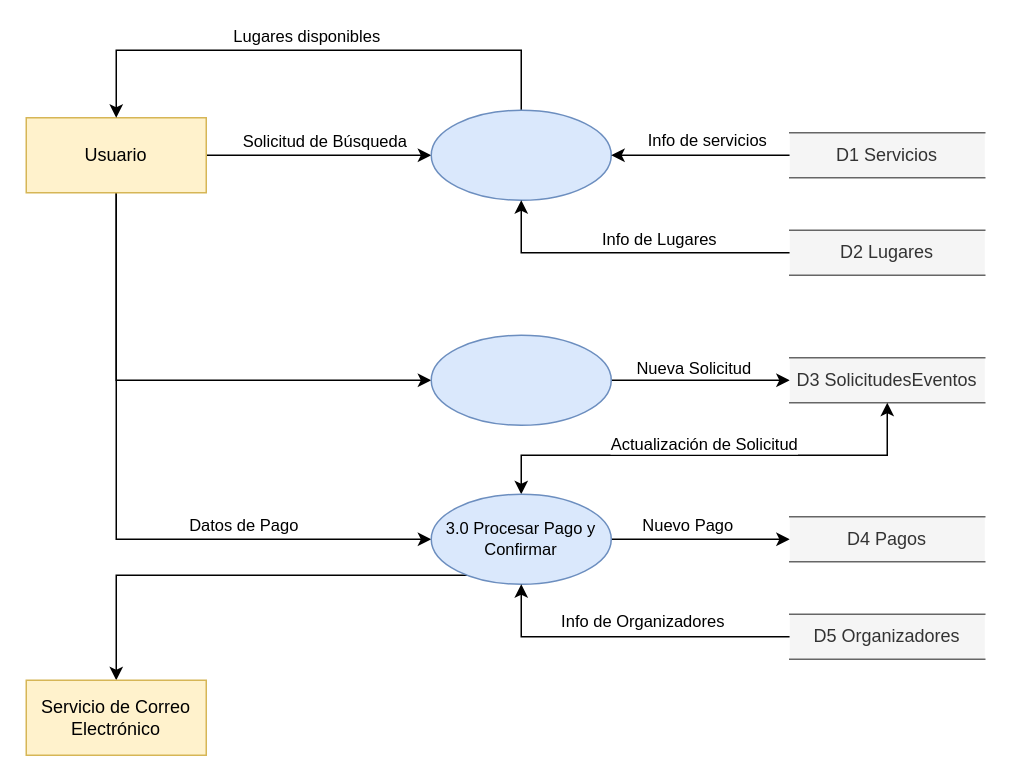
Some shapes in this 1011 by 782 pixel diagram are drawn without their labels. The centre of each missing label's shape, as x and y in pixels:
"1.0 Buscar Lugares Disponibles" belongs at pixel 520 154.
"2.0 Crear Solicitud de Evento" belongs at pixel 520 379.
